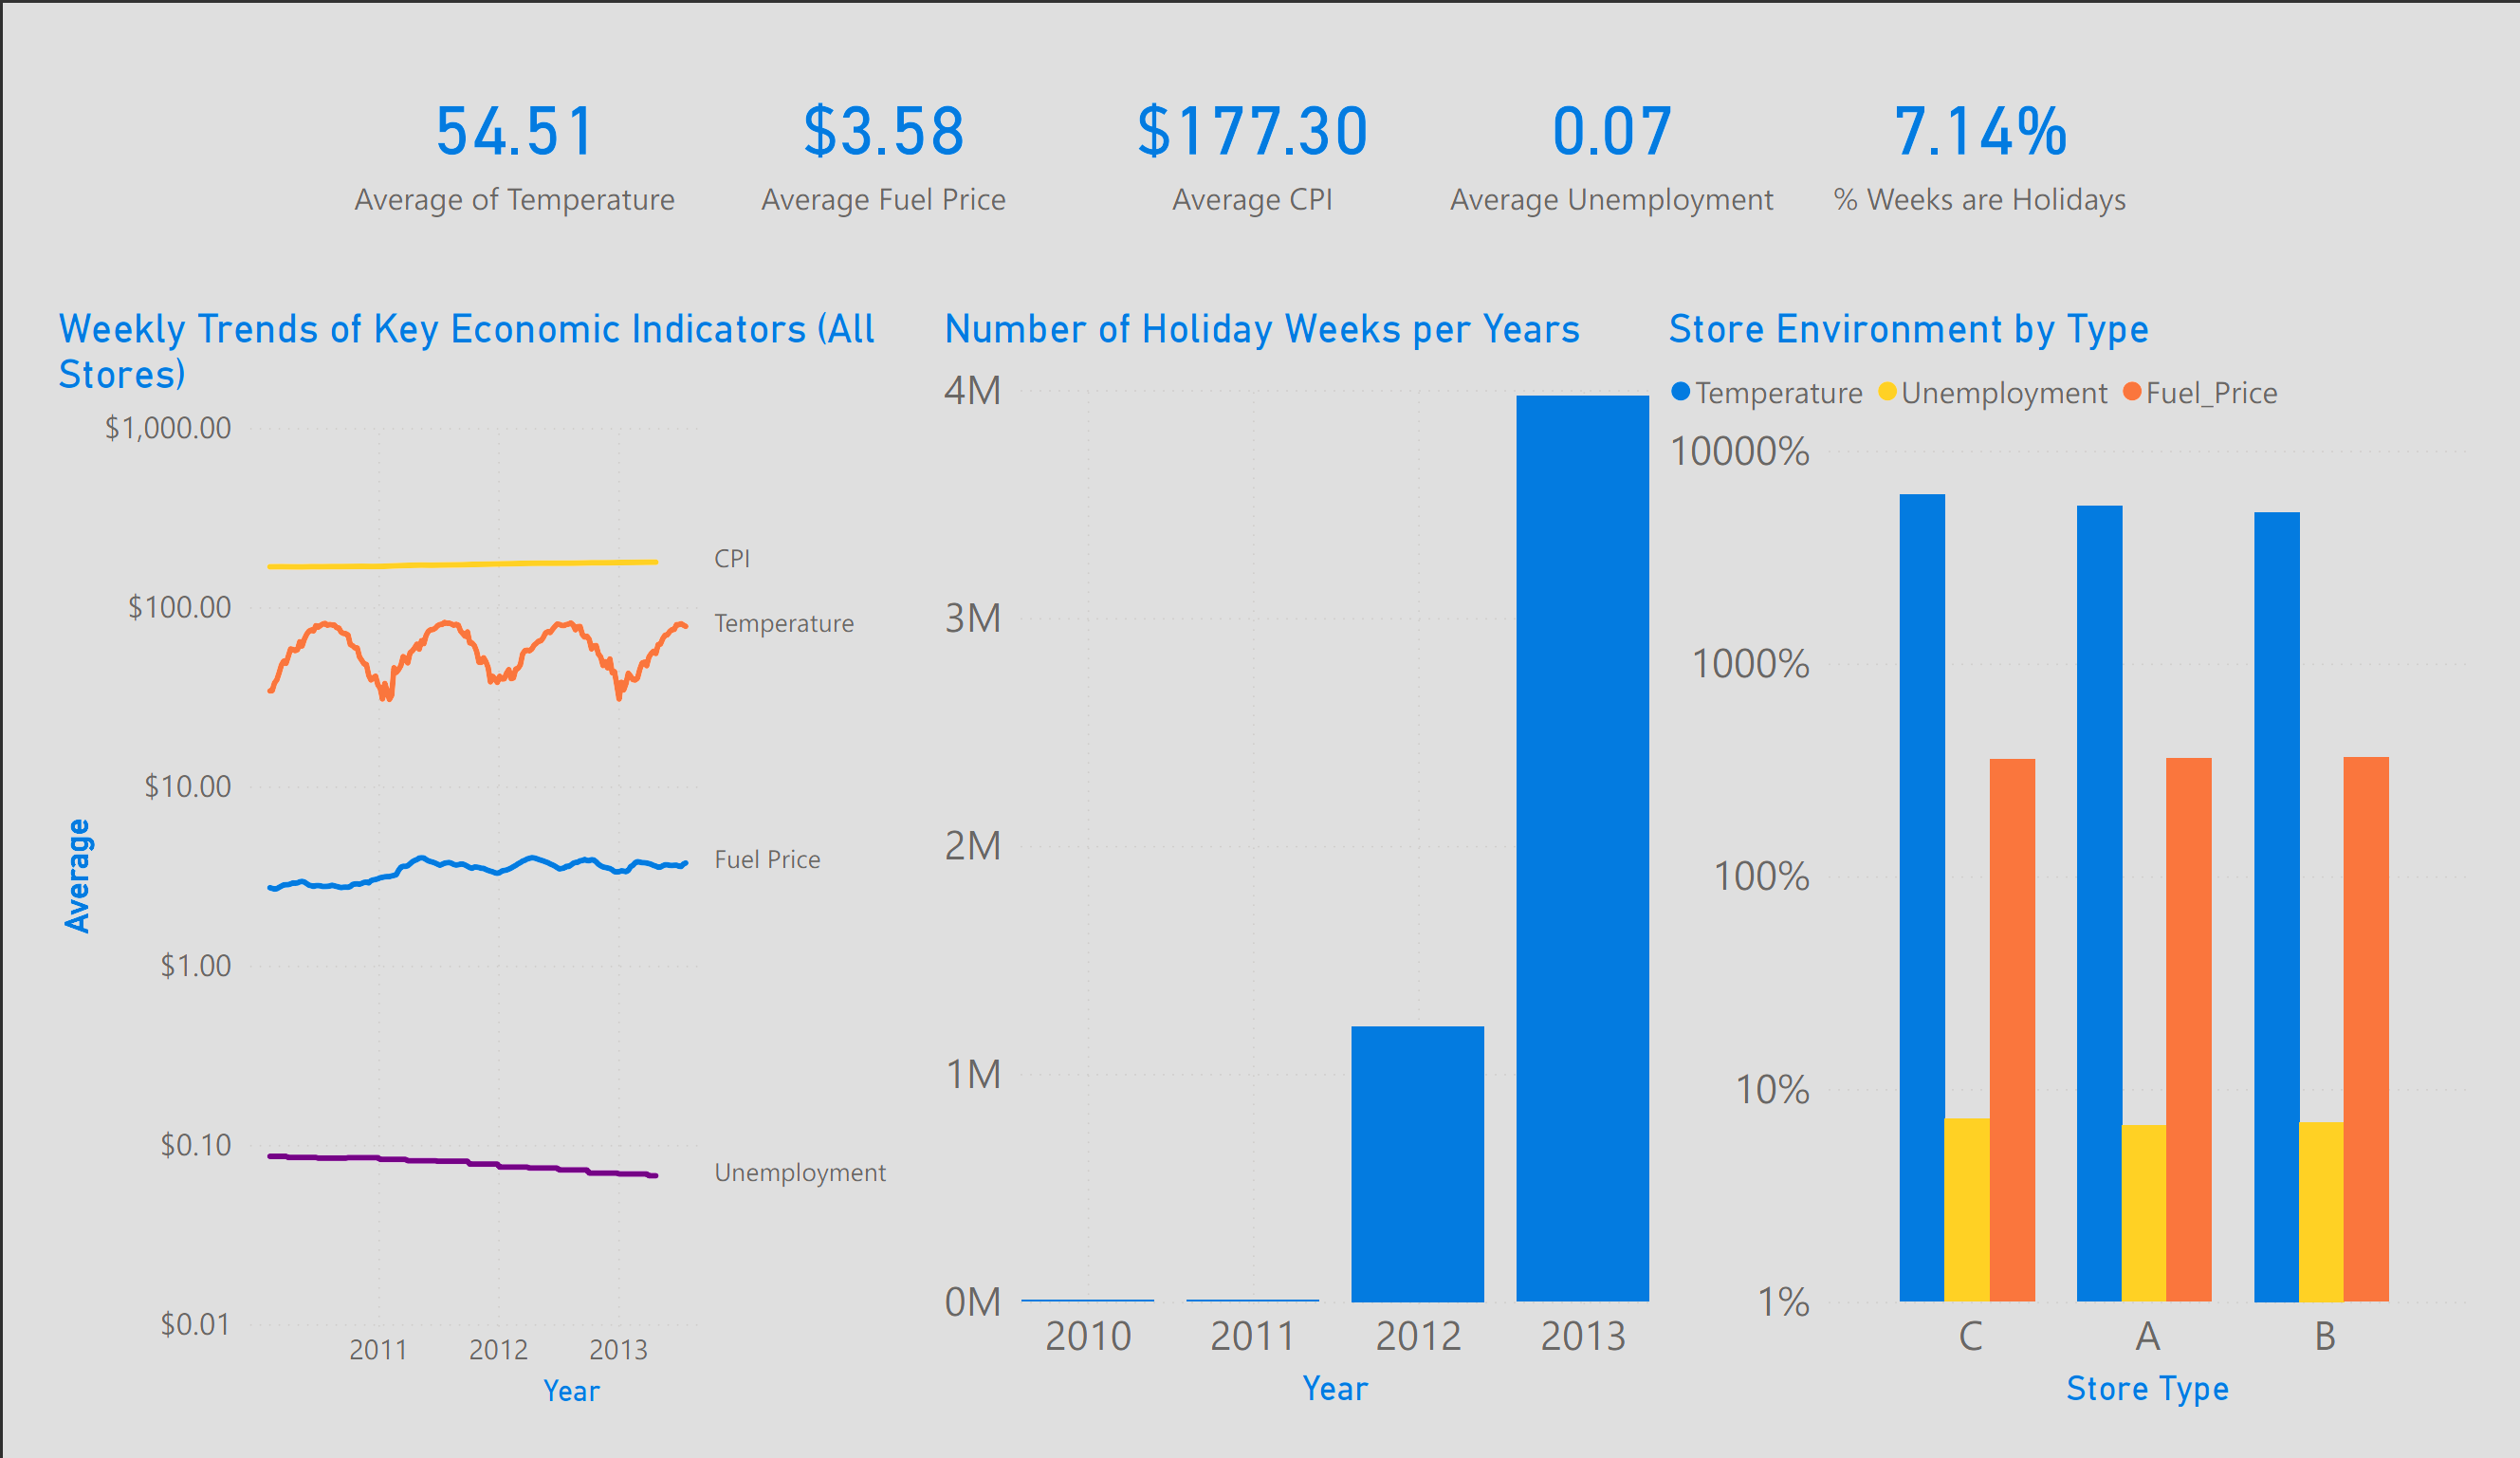

What the dashboard file says about the page in this screenshot:
{"tool":"powerbi","page":{"name":"Overview","canvas":[1280,720],"ordinal":0},"visuals":[{"type":"card","fields":{"Values":["Avg(Features.Temperature)"]},"box":[151.4,0,189.5,100.9],"z":0},{"type":"card","fields":{"Values":["Avg(Features.Fuel_Price)"]},"box":[340.9,0,199.4,100.9],"z":1000},{"type":"card","fields":{"Values":["Avg(Features.CPI)"]},"box":[540.3,0,189.5,100.9],"z":2000},{"type":"card","fields":{"Values":["Avg(Features.Unemployment)"]},"box":[729.8,0,189.5,100.9],"z":3000},{"type":"card","title":"% is Holiday Week","fields":{"Values":["Features.Holiday %"]},"box":[919.4,0,198.2,100.9],"z":4000},{"type":"lineChart","title":"Weekly Trends of Key Economic Indicators (All Stores)","fields":{"Y":["Avg(Features.Fuel_Price)","Avg(Features.CPI)","Avg(Features.Temperature)","Avg(Features.Unemployment)"],"Category":["DateTable.Date.Variation.Date Hierarchy.Year","DateTable.Date.Variation.Date Hierarchy.Quarter","DateTable.Date.Variation.Date Hierarchy.Month","DateTable.Date.Variation.Date Hierarchy.Day"]},"box":[0,135.1,456.3,585.5],"z":5000},{"type":"columnChart","title":"Number of Holiday Weeks per Years","fields":{"Category":["DateTable.Year"],"Y":["CountNonNull(Features.IsHoliday)"]},"box":[467,135.1,381.6,585.5],"z":6000},{"type":"clusteredColumnChart","title":"Store Environment by Type","fields":{"Category":["Features.Stores.Type"],"Y":["Avg(Features.Temperature)","Avg(Features.Unemployment)","Avg(Features.Fuel_Price)"]},"box":[848.6,135.1,431.4,585.5],"z":7000}]}

Visuals, with their boxes in screenshot pixels (x1, y1, x2, y2), scaled from the page's 1280x720 canvas onto the 2520x1458 screenshot:
card - Avg(Features.Temperature): 298:0:671:204
card - Avg(Features.Fuel_Price): 671:0:1064:204
card - Avg(Features.CPI): 1064:0:1437:204
card - Avg(Features.Unemployment): 1437:0:1810:204
"% is Holiday Week" card: 1810:0:2200:204
"Weekly Trends of Key Economic Indicators (All Stores)" lineChart: 0:273:898:1457
"Number of Holiday Weeks per Years" columnChart: 919:273:1671:1457
"Store Environment by Type" clusteredColumnChart: 1671:273:2519:1457
